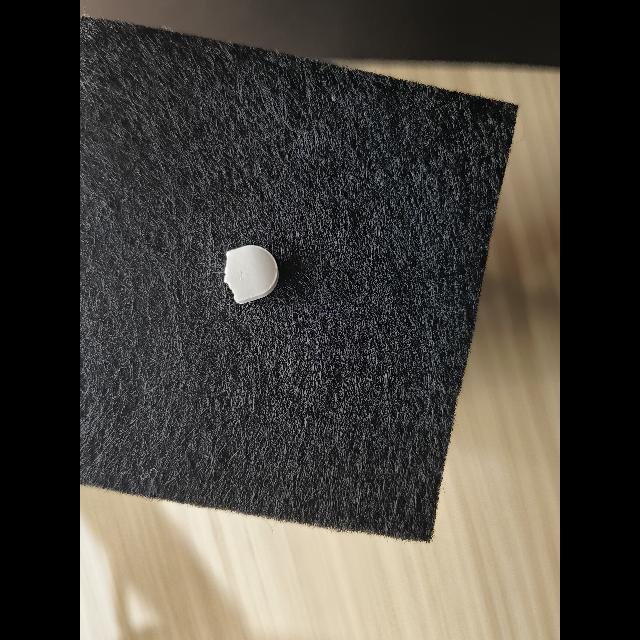Chipped Pill: (224, 245, 279, 305)
